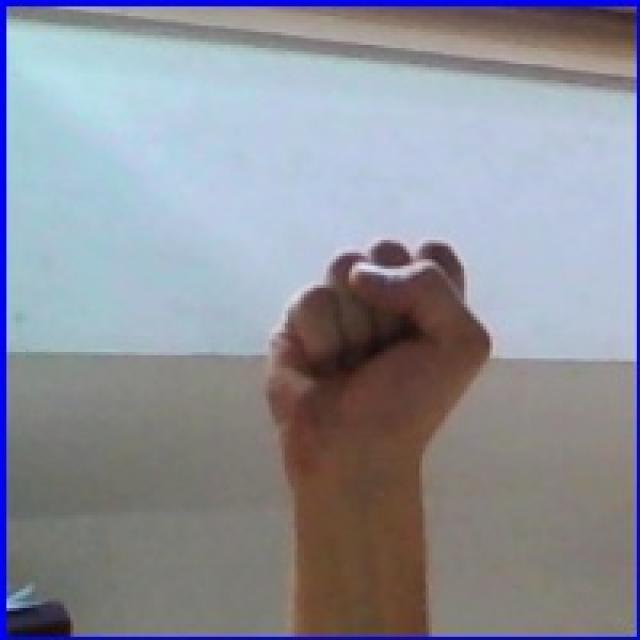Letra-S: (232, 202, 519, 532)
